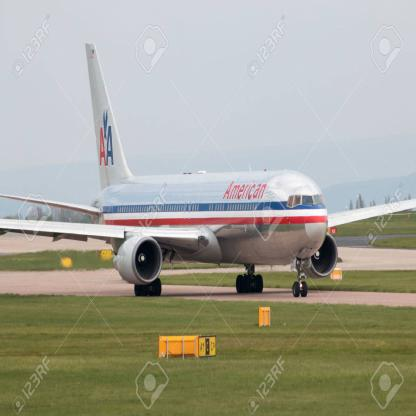CIV_Plane: (0, 36, 415, 332)
